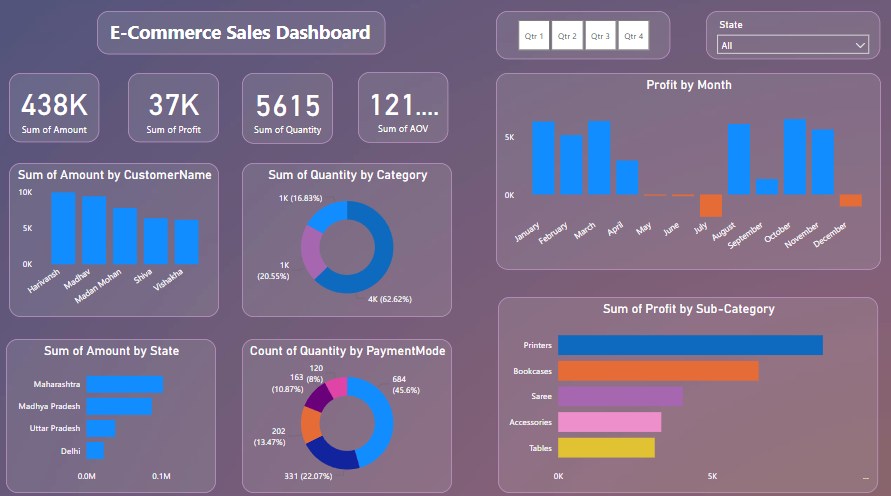

This screenshot's page, from the dashboard's own definition file:
{"tool":"powerbi","page":{"name":"Page 1","canvas":[1280,720],"ordinal":0},"visuals":[{"type":"columnChart","title":"Profit by Month ","fields":{"Category":["Orders.Order Date.Variation.Date Hierarchy.Month"],"Y":["Details.Profit"]},"box":[715.7,107.7,549.9,280.6],"z":0},{"type":"barChart","fields":{"Y":["Details.Profit"],"Category":["Details.Sub-Category"]},"box":[715.7,426.6,549.9,280.6],"z":1000},{"type":"donutChart","fields":{"Category":["Details.Category"],"Y":["Details.Quantity"]},"box":[352.9,235.3,300.5,219.7],"z":2000},{"type":"donutChart","fields":{"Category":["Details.PaymentMode"],"Y":["Details.Quantity"]},"box":[352.9,487.6,300.5,219.7],"z":3000},{"type":"card","fields":{"Values":["Details.Amount"]},"box":[19.8,107.7,129,99.2],"z":4000},{"type":"card","fields":{"Values":["Details.Quantity"]},"box":[352.9,107.7,130.4,100.6],"z":5000},{"type":"card","fields":{"Values":["Details.Profit"]},"box":[189.9,107.7,130.4,99.2],"z":6000},{"type":"card","fields":{"Values":["Details.AOV"]},"box":[518.7,106.3,129,100.6],"z":7000},{"type":"barChart","fields":{"Category":["Orders.State"],"Y":["Details.Amount"]},"box":[15.1,487.1,300,220],"z":8000},{"type":"columnChart","fields":{"Y":["Details.Amount"],"Category":["Orders.CustomerName"]},"box":[19.8,235.3,300.5,219.7],"z":9000},{"type":"textbox","box":[146,18.4,412.4,62.4],"z":10000},{"type":"slicer","fields":{"Values":["Orders.Order Date.Variation.Date Hierarchy.Quarter"]},"box":[715.7,18.4,249.4,69.4],"z":10001},{"type":"slicer","fields":{"Values":["Orders.State"]},"box":[1016.2,18.4,249.4,69.4],"z":10003}]}

Visuals, with their boxes in screenshot pixels (x1, y1, x2, y2), scaled from the page's 1280x720 canvas onto the 891x496 screenshot:
"Profit by Month " columnChart: bbox(498, 74, 881, 267)
barChart - Details.Profit x Details.Sub-Category: bbox(498, 294, 881, 487)
donutChart - Details.Category x Details.Quantity: bbox(246, 162, 455, 313)
donutChart - Details.PaymentMode x Details.Quantity: bbox(246, 336, 455, 487)
card - Details.Amount: bbox(14, 74, 104, 143)
card - Details.Quantity: bbox(246, 74, 336, 143)
card - Details.Profit: bbox(132, 74, 223, 143)
card - Details.AOV: bbox(361, 73, 451, 143)
barChart - Orders.State x Details.Amount: bbox(11, 336, 219, 487)
columnChart - Details.Amount x Orders.CustomerName: bbox(14, 162, 223, 313)
textbox: bbox(102, 13, 389, 56)
slicer - Orders.Order Date.Variation.Date Hierarchy.Quarter: bbox(498, 13, 672, 60)
slicer - Orders.State: bbox(707, 13, 881, 60)
